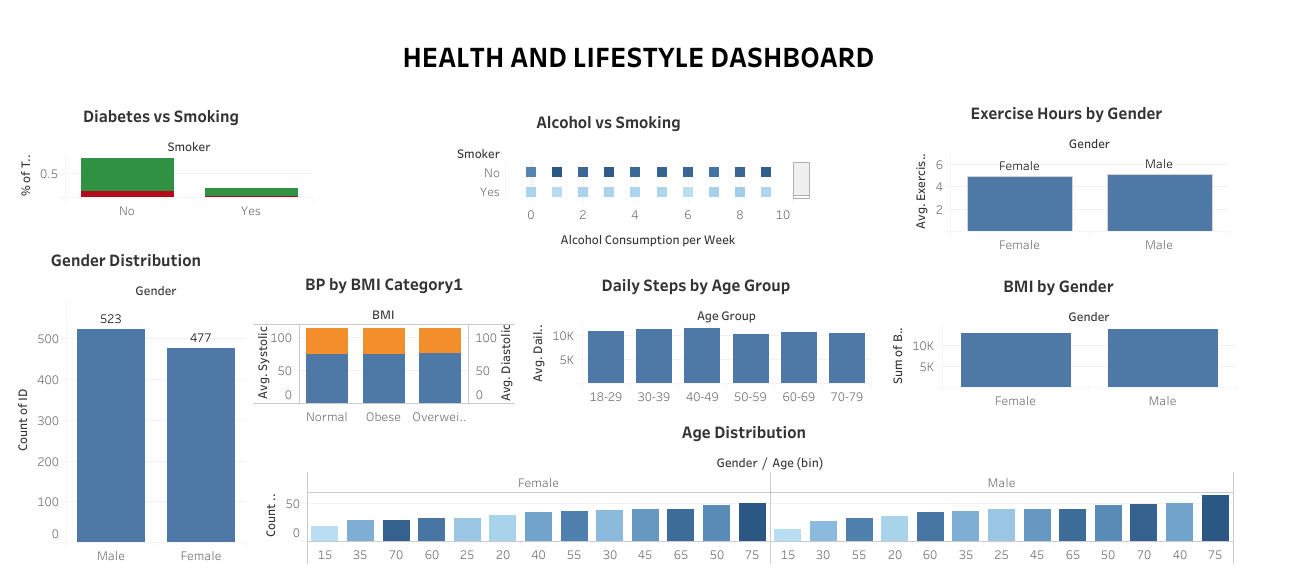

What the dashboard file says about the page in this screenshot:
{"tool":"tableau","page":{"name":"Dashboard 2","canvas":[1000,1000],"units":"permille","ordinal":0},"visuals":[{"type":"text","box":[20.9,42.2,932.2,111.5]},{"type":"worksheet","title":"Exercise Hours by Gender","mark":"Bar","rows":["Exercise_Hours_per_Week"],"cols":["Gender"],"box":[689.5,165.5,247.7,277]},{"type":"worksheet","title":"Diabetes vs Smoking","mark":"Automatic","rows":["ID"],"cols":["Smoker"],"box":[6.7,172.3,231.8,211.2]},{"type":"worksheet","title":"Alcohol vs Smoking","mark":"Square","rows":["Smoker"],"cols":["Alcohol_Consumption_per_Week"],"box":[323.9,182.4,293.7,263.5]},{"type":"worksheet","title":"Gender Distribution","mark":"Bar","rows":["ID"],"cols":["Gender"],"box":[4.2,424,183.3,564.2]},{"type":"worksheet","title":"BP by BMI Category1","mark":"Bar","rows":["Blood_Pressure - Split 1","Blood_Pressure - Split 2"],"cols":["Calculation_718324187154448387"],"box":[193.3,466.2,199.2,280.4]},{"type":"worksheet","title":"Daily Steps by Age Group","mark":"Automatic","rows":["Daily_Steps"],"box":[397.5,467.9,266.9,250]},{"type":"worksheet","title":"BMI by Gender","mark":"Automatic","rows":["BMI"],"cols":["Gender"],"box":[672,469.6,270.8,246.6]},{"type":"worksheet","title":"Age Distribution","mark":"Automatic","rows":["ID"],"cols":["Gender","Age (bin)"],"box":[193.4,724.7,747.7,263.5]}]}

Visuals, with their boxes on the dashboard's canvas, which has no fixed pixel size, in thousandths of its width and height (x1, y1, x2, y2). These are canvas units, not pixel positions in the 1310x570 screenshot, which may show the page scaled, cropped or inside an application window:
text: <box>21,42,953,154</box>
"Exercise Hours by Gender" worksheet (Bar marks): <box>690,166,937,442</box>
"Diabetes vs Smoking" worksheet: <box>7,172,238,384</box>
"Alcohol vs Smoking" worksheet (Square marks): <box>324,182,618,446</box>
"Gender Distribution" worksheet (Bar marks): <box>4,424,188,988</box>
"BP by BMI Category1" worksheet (Bar marks): <box>193,466,392,747</box>
"Daily Steps by Age Group" worksheet: <box>398,468,664,718</box>
"BMI by Gender" worksheet: <box>672,470,943,716</box>
"Age Distribution" worksheet: <box>193,725,941,988</box>
